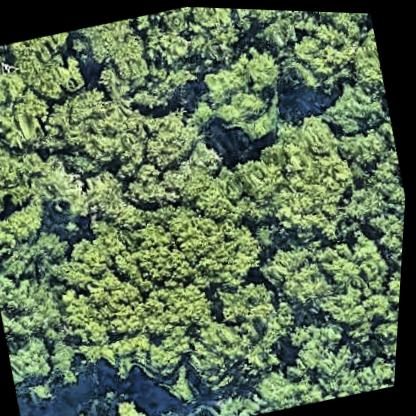tree-top: (51, 206, 231, 393), (109, 94, 241, 213), (254, 115, 366, 243), (191, 38, 301, 146), (331, 121, 411, 236), (277, 8, 379, 98), (50, 80, 146, 175), (176, 202, 273, 292), (181, 303, 264, 398), (318, 232, 402, 324), (261, 231, 345, 315), (0, 263, 76, 352), (3, 29, 87, 105), (166, 5, 249, 74), (285, 307, 363, 379), (0, 124, 55, 225), (0, 205, 75, 277), (316, 70, 392, 139), (0, 67, 61, 152), (216, 272, 290, 341), (71, 14, 148, 80), (71, 160, 142, 231), (231, 359, 319, 416), (122, 58, 200, 121), (8, 325, 67, 392), (39, 387, 166, 416), (226, 7, 311, 48), (330, 351, 400, 398), (0, 201, 58, 255), (200, 381, 284, 416), (24, 375, 67, 416), (378, 260, 404, 327), (167, 398, 238, 416), (384, 310, 402, 369), (0, 44, 13, 84)
